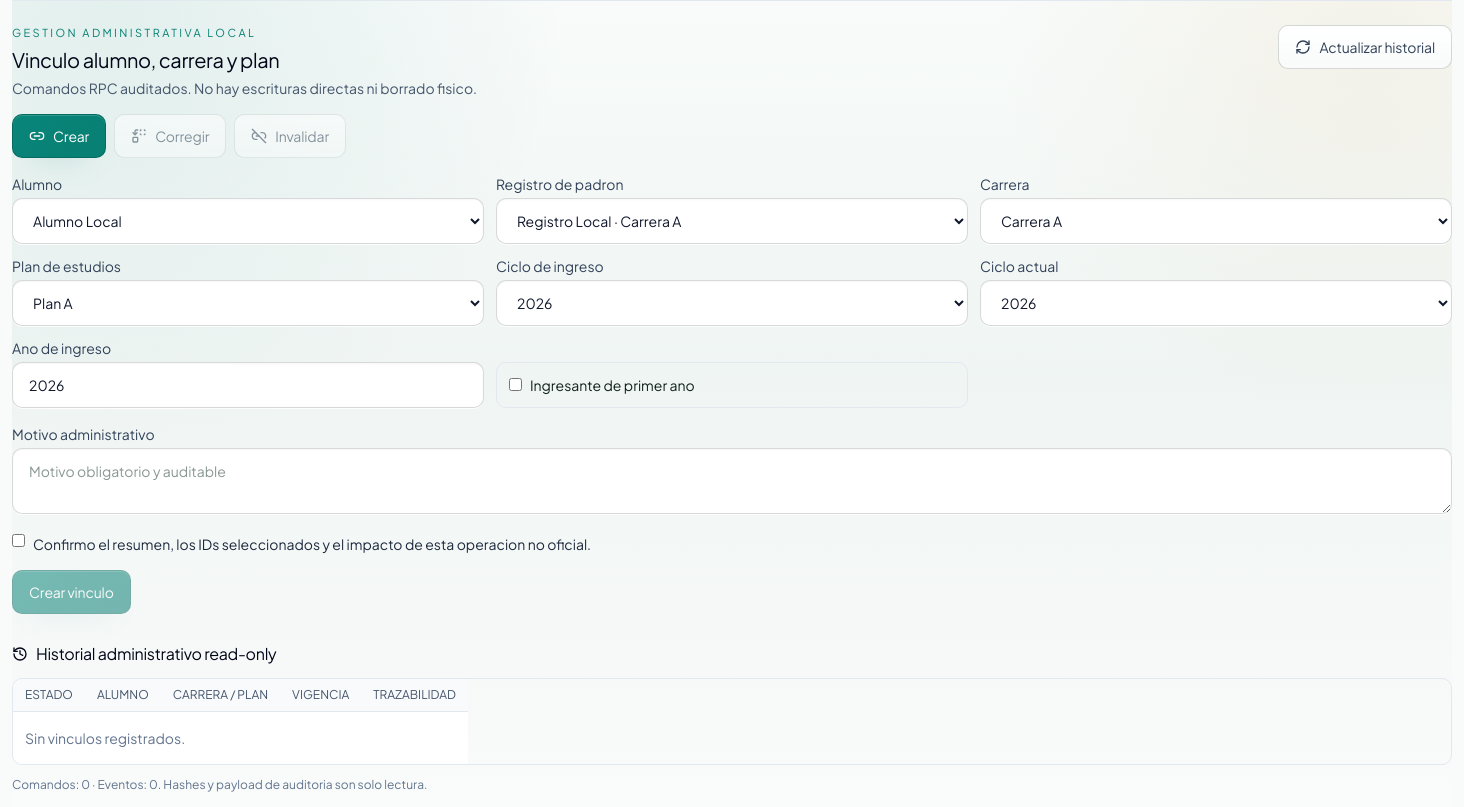
StudentCareerLinkAdminPanel › crea mediante comando, bloquea doble clic y conserva requestId
In the text box labelled "Motivo administrativo": (732, 480) [12,448,1452,514], type "Alta administrativa revisada"
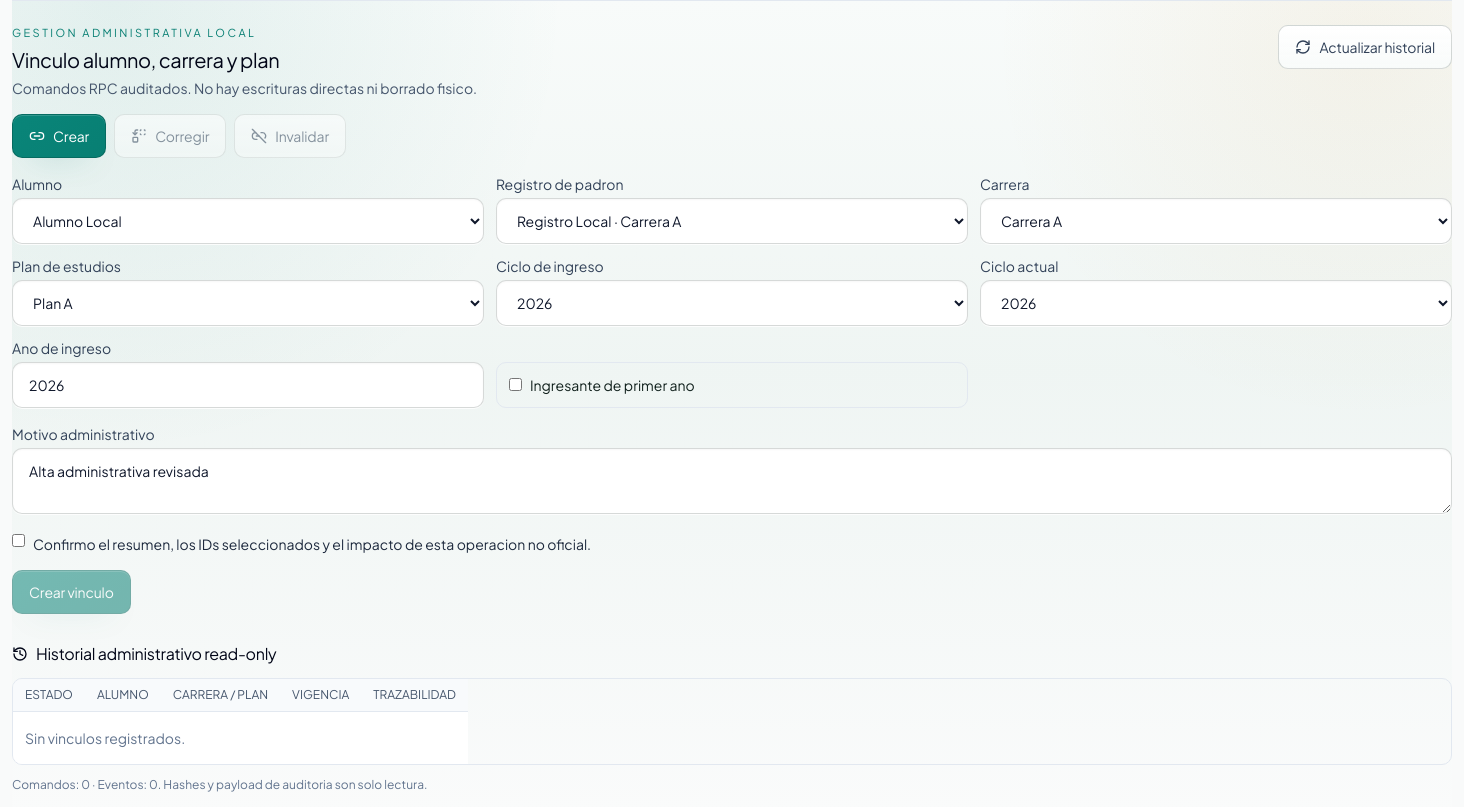
Click the checkbox labelled "Confirmo el resumen": (18, 540) [12,534,25,546]
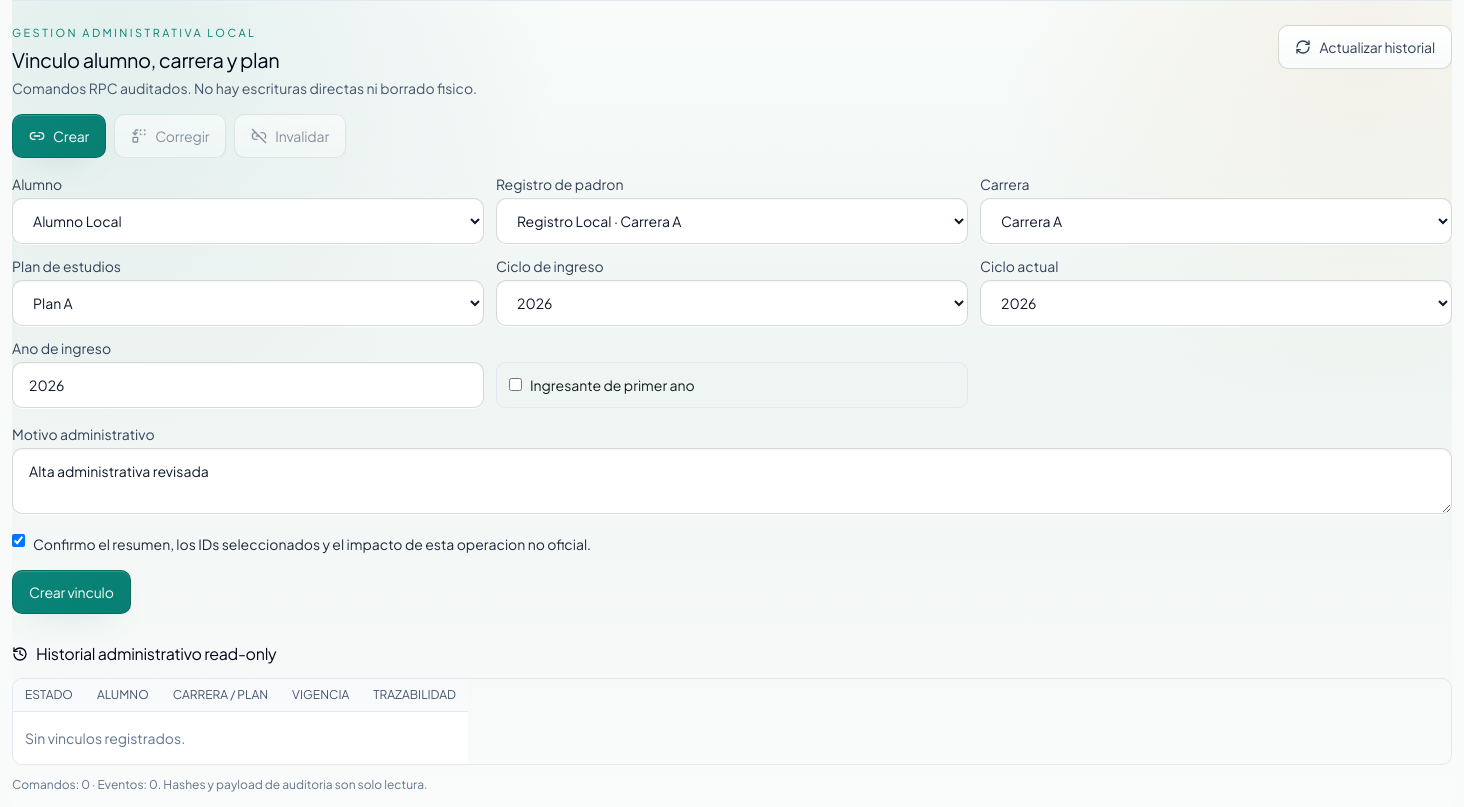
Click the button "Crear vinculo": (71, 592) [12,570,131,614]
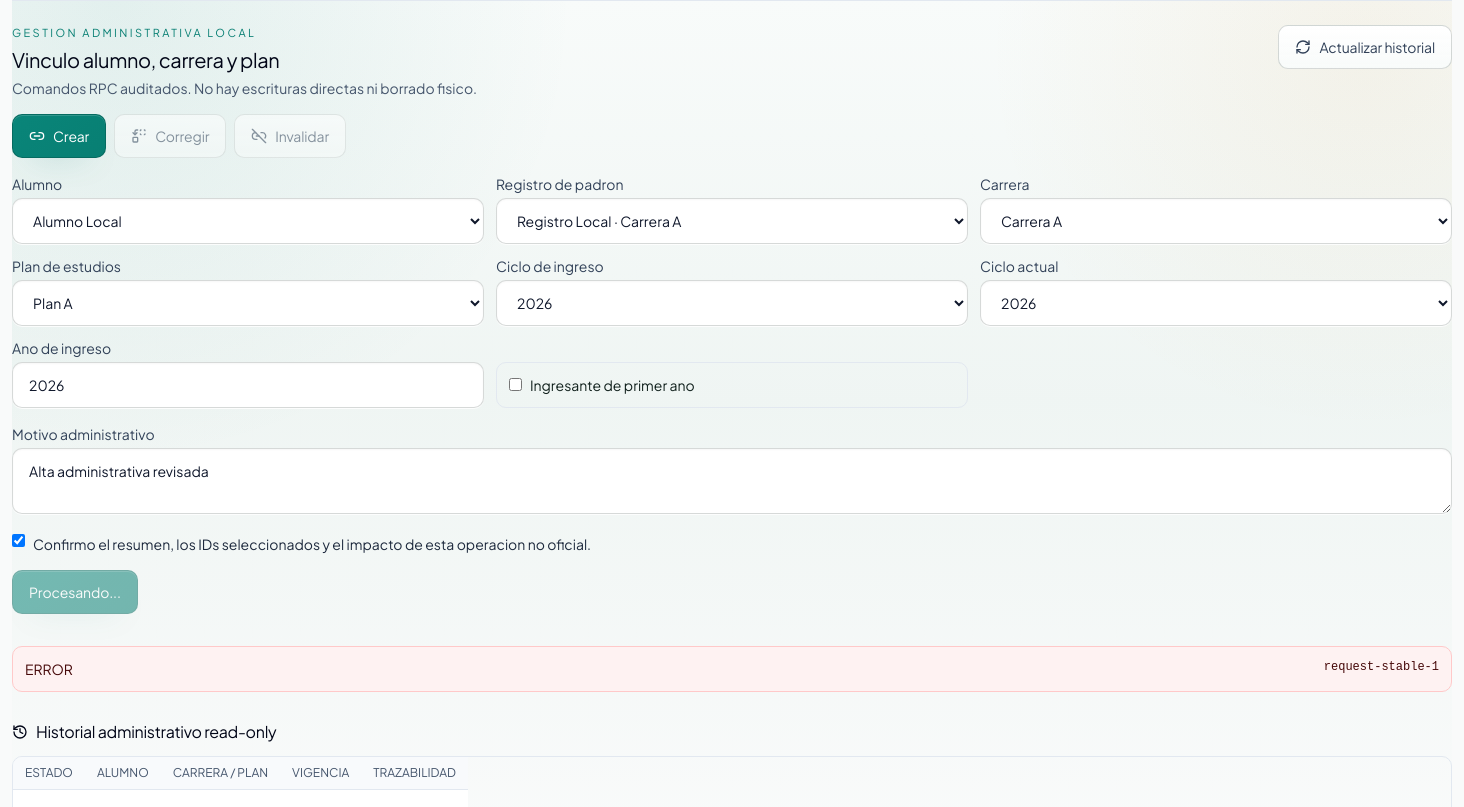
Click the button named "Crear vinculo": (75, 592) [12,570,138,614]
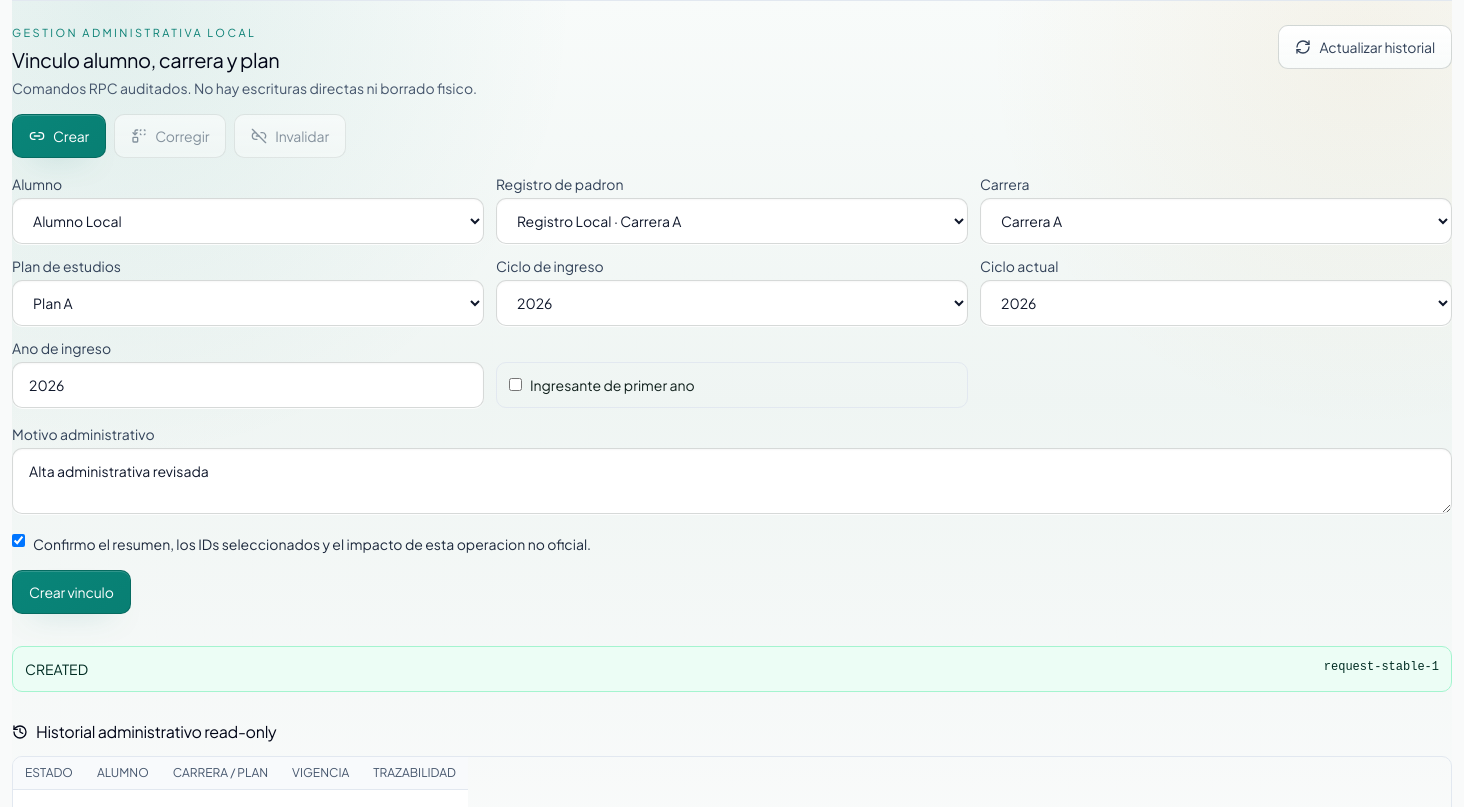
Result: the text "CREATED" is shown at [25,658,88,678]
